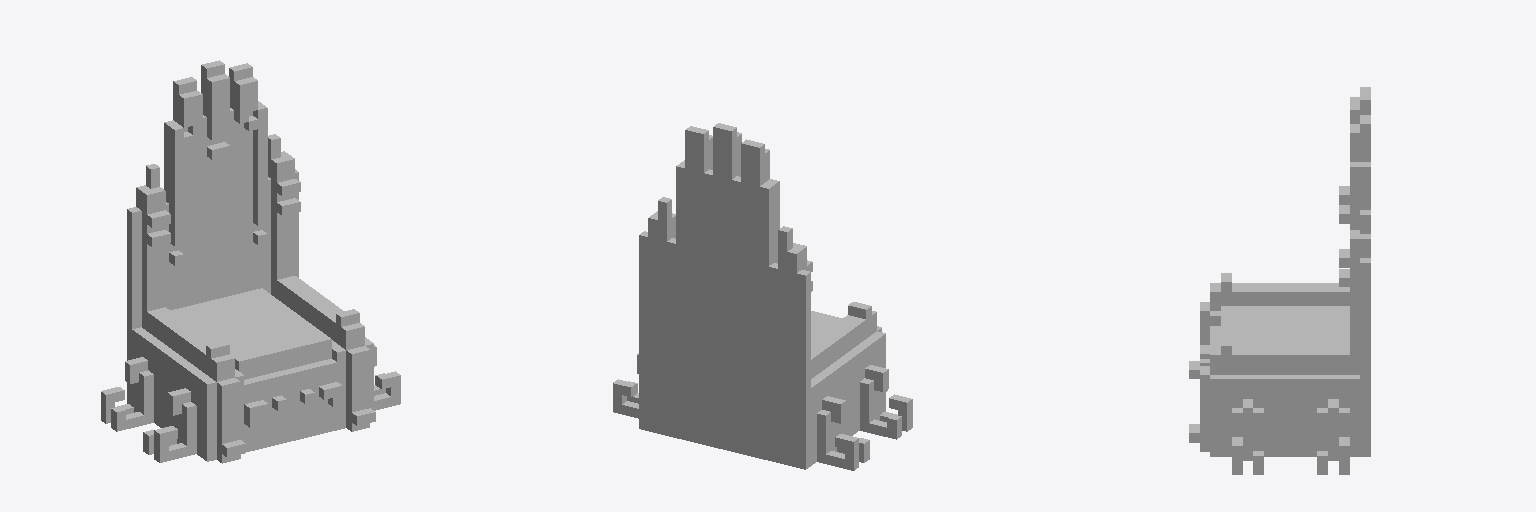
File: King_Throne.obj
3 views of the same model, side by side, from view 1: azimuth 30°, elevation 25°; view 2: azimuth 150°, elevation 25°; view 3: azimuth 270°, elevation 25° (orthographic).
Visible parts, largest first — view 1: King_Throne; view 2: King_Throne; view 3: King_Throne.
Boxes of the visible parts, x1,y1,x2,y2 form: King_Throne: [101, 60, 400, 463]; King_Throne: [613, 123, 912, 470]; King_Throne: [1189, 87, 1370, 474].
Size of the model in its own units: 2.6 by 3.3 by 1.7.